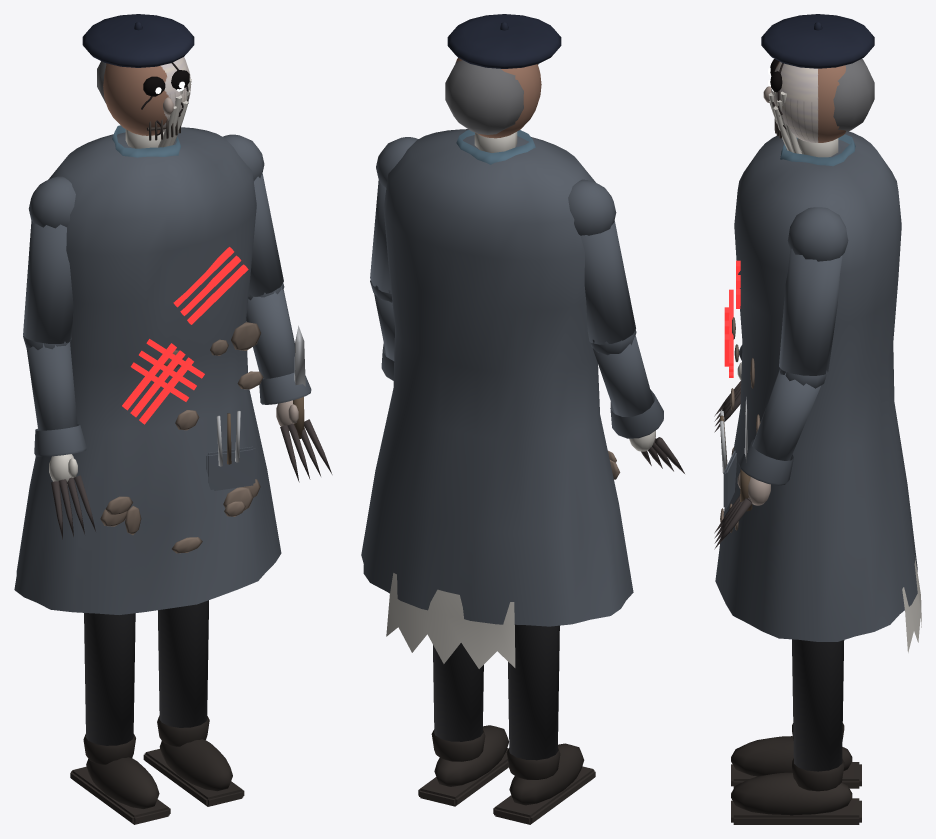
Rendered from the_sculptor.glb.
3 renders of one model, left to right at view 1: azimuth 30°, elevation 25°; view 2: azimuth 150°, elevation 25°; view 3: azimuth 270°, elevation 25°, orthographic.
Parts seen in each view (by area): view 1: Sculptor_Root_SlateSmock, ArmA_SlateSmock, ArmB_SlateSmock, LegLegA, LegLegB, LegB_Shoe, LegA_Shoe, Head_Beret, Sculptor_Root_HWound, Face, Sculptor_Root_ClaySmear, ArmA_HClaw (+5 smaller); view 2: Sculptor_Root_SlateSmock, ArmA_SlateSmock, LegLegA, SmockBack, Head_Beret, LegA_Shoe, HairBack, LegB_Shoe, LegLegB, ArmB_SlateSmock, Face, Sculptor_Root_ArtistScarf (+2 smaller); view 3: Sculptor_Root_SlateSmock, ArmB_SlateSmock, LegLegB, LegB_Shoe, Head_Beret, Face, LegA_Shoe, HairBack, Head_MeltWax, Sculptor_Root_HWound, Sculptor_Root_ArtistScarf, SmockBack (+4 smaller).
Boxes of the visible parts, x1=… form: Sculptor_Root_SlateSmock: x1=14, y1=127, x2=281, y2=614; ArmA_SlateSmock: x1=23, y1=176, x2=86, y2=456; ArmB_SlateSmock: x1=223, y1=134, x2=311, y2=404; LegLegA: x1=84, y1=613, x2=135, y2=745; LegLegB: x1=158, y1=600, x2=208, y2=727; LegB_Shoe: x1=143, y1=715, x2=244, y2=806; LegA_Shoe: x1=70, y1=734, x2=170, y2=824; Head_Beret: x1=82, y1=14, x2=194, y2=67; Sculptor_Root_HWound: x1=122, y1=247, x2=248, y2=424; Face: x1=103, y1=57, x2=191, y2=135; Sculptor_Root_ClaySmear: x1=100, y1=322, x2=263, y2=553; ArmA_HClaw: x1=51, y1=475, x2=95, y2=539; Sculptor_Root_SlateSmock: x1=361, y1=129, x2=633, y2=626; ArmA_SlateSmock: x1=568, y1=179, x2=663, y2=438; LegLegA: x1=508, y1=624, x2=559, y2=760; SmockBack: x1=386, y1=573, x2=515, y2=668; Head_Beret: x1=447, y1=14, x2=561, y2=68; LegA_Shoe: x1=493, y1=743, x2=595, y2=824; HairBack: x1=445, y1=60, x2=523, y2=134; LegB_Shoe: x1=418, y1=725, x2=508, y2=806; LegLegB: x1=433, y1=643, x2=483, y2=741; ArmB_SlateSmock: x1=370, y1=137, x2=418, y2=380; Face: x1=455, y1=58, x2=541, y2=138; Sculptor_Root_ArtistScarf: x1=456, y1=130, x2=535, y2=164; Sculptor_Root_SlateSmock: x1=715, y1=131, x2=917, y2=641; ArmB_SlateSmock: x1=738, y1=207, x2=848, y2=485; LegLegB: x1=792, y1=639, x2=844, y2=771; LegB_Shoe: x1=731, y1=758, x2=861, y2=824; Head_Beret: x1=761, y1=14, x2=874, y2=68; Face: x1=771, y1=61, x2=845, y2=142; LegA_Shoe: x1=731, y1=723, x2=861, y2=788; HairBack: x1=833, y1=59, x2=874, y2=132; Head_MeltWax: x1=768, y1=91, x2=838, y2=157; Sculptor_Root_HWound: x1=724, y1=260, x2=740, y2=377; Sculptor_Root_ArtistScarf: x1=780, y1=134, x2=855, y2=166; SmockBack: x1=902, y1=555, x2=921, y2=652.
Bounding box in the file's own units: 0.6625 × 1.78 × 0.4342.
20 materials, 1 textured.
